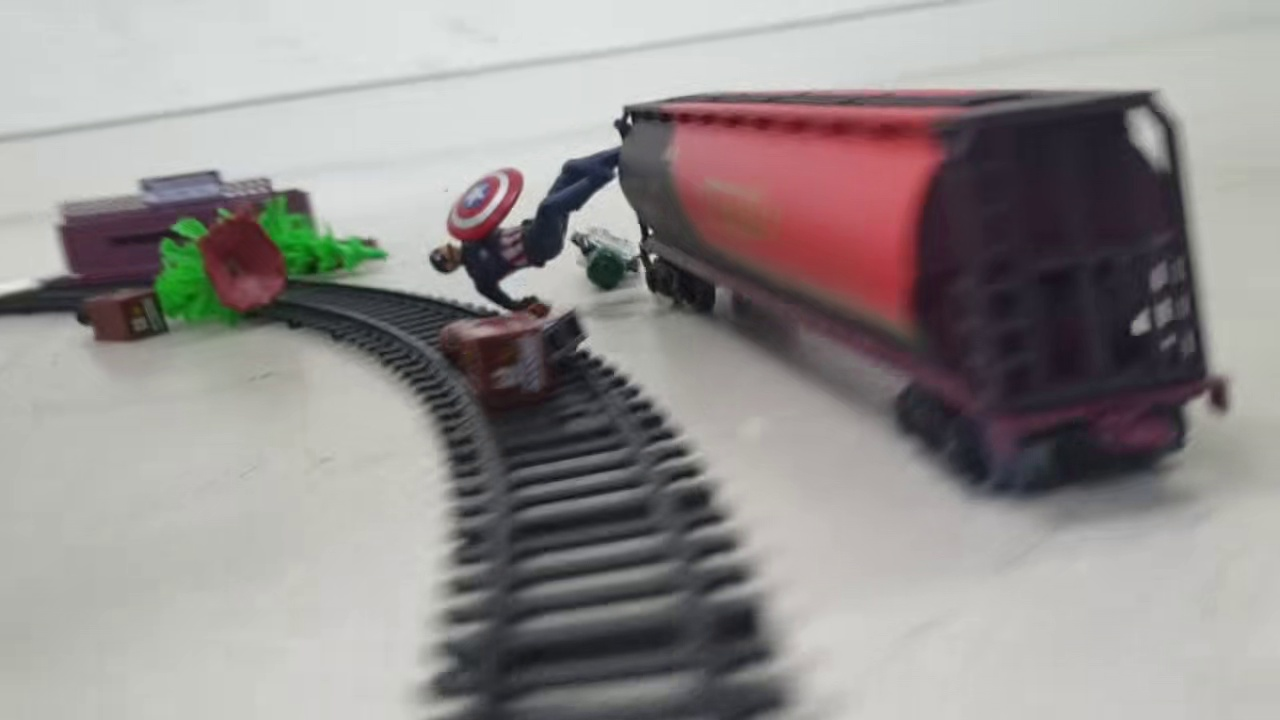box: (457, 311, 559, 406), (88, 288, 173, 341)
people: (430, 143, 624, 317), (440, 306, 589, 368), (568, 221, 648, 293)
tree: (148, 208, 292, 324), (247, 195, 394, 291)
